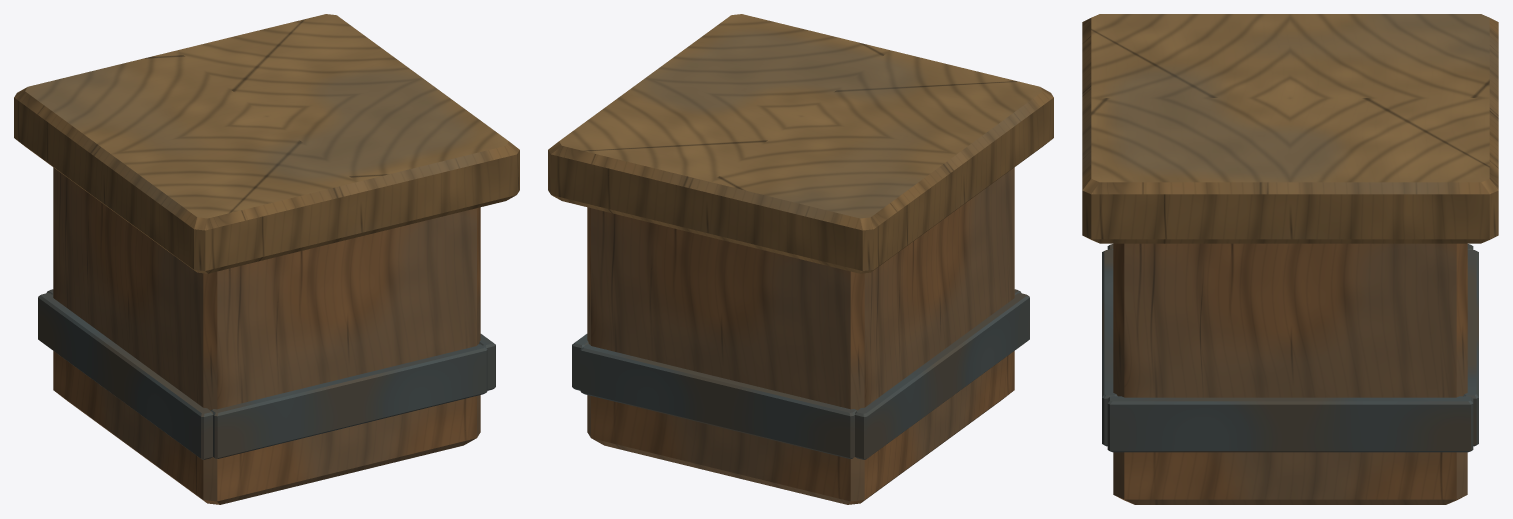
The model's file is b10_brazier_plinth.fbx.
3 renders of one model, left to right at view 1: azimuth 30°, elevation 25°; view 2: azimuth 150°, elevation 25°; view 3: azimuth 270°, elevation 25°, orthographic. The views are drawn at different scales.
Parts seen in each view (by area): view 1: b10_brazier_plinth; view 2: b10_brazier_plinth; view 3: b10_brazier_plinth.
Boxes of the visible parts, x1,y1,x2,y2 form: b10_brazier_plinth: [14, 14, 519, 504]; b10_brazier_plinth: [548, 14, 1053, 504]; b10_brazier_plinth: [1082, 14, 1498, 504].
Size of the model in its own units: 7400 by 7400 by 6600.
